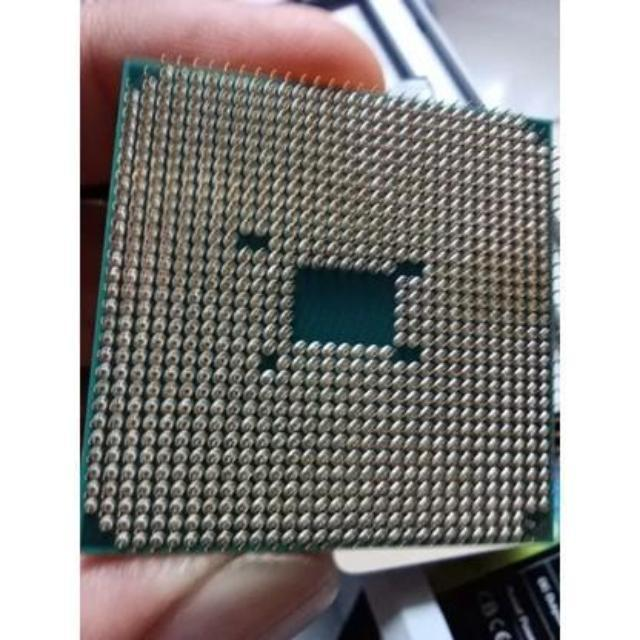CPU: (83, 58, 554, 548)
